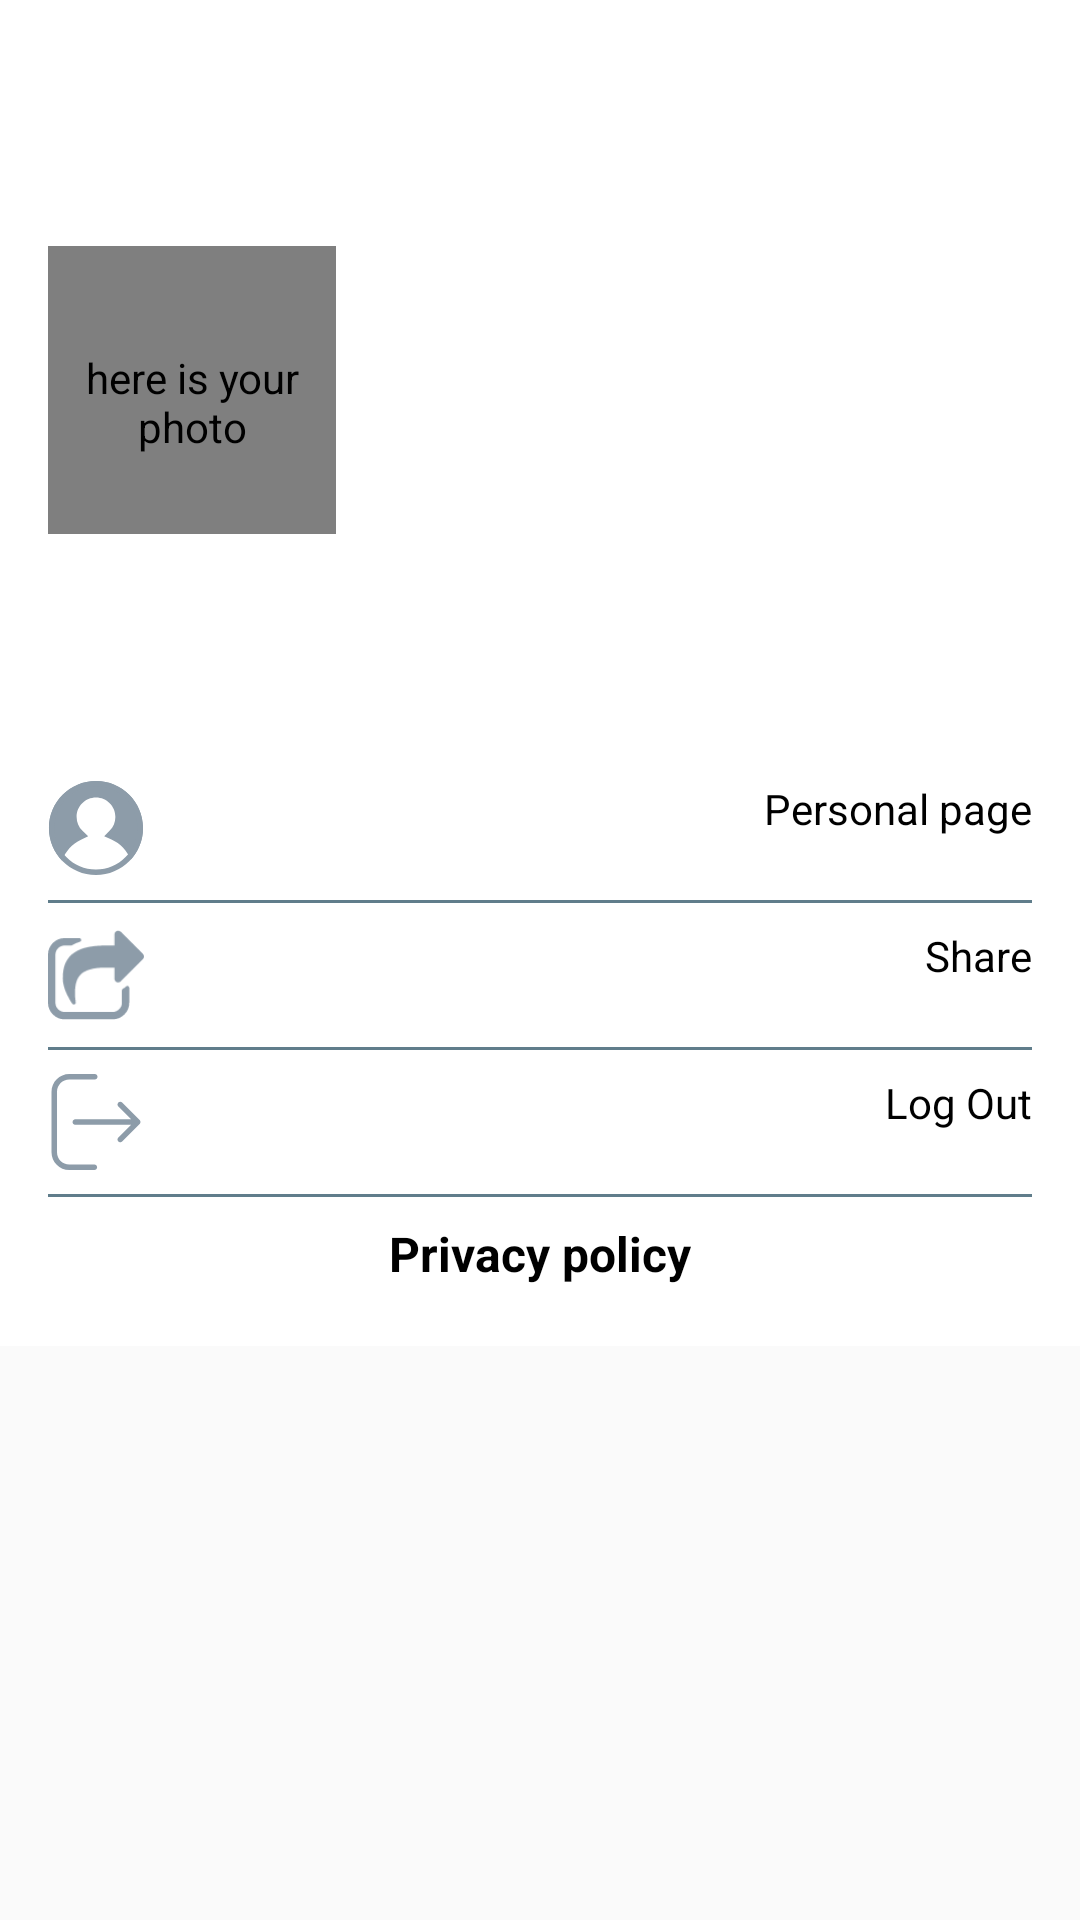

Named icons in this screenshot (1080x1920) and their centers, point (x, y):
log out: point (96, 1122)
profile: point (96, 828)
share: point (96, 975)
